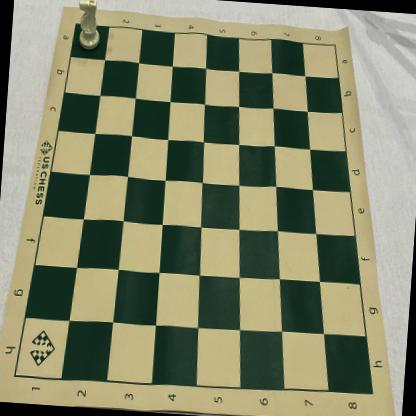knight: (74, 0, 105, 53)
